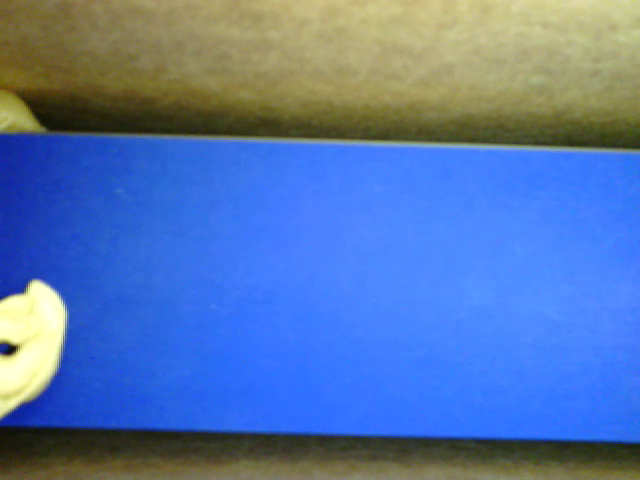shell: (1, 87, 52, 132)
tortellini: (2, 276, 72, 421)
